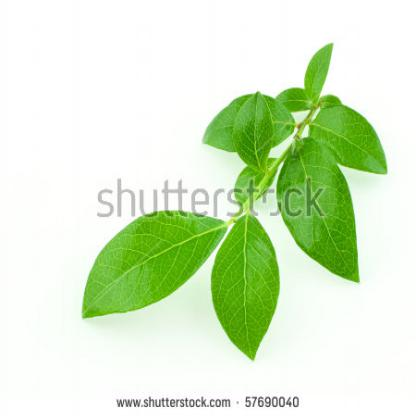blueberry leaf: (77, 198, 234, 340), (269, 134, 365, 291), (211, 205, 283, 366), (302, 106, 397, 186), (228, 84, 275, 186)
